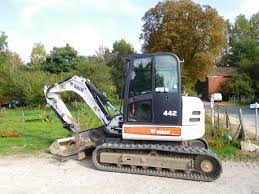excavator: (47, 52, 219, 181)
